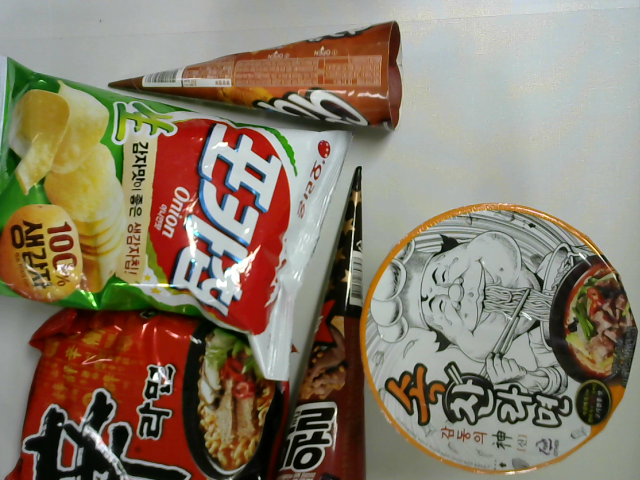GooGoo_Cone_CVS: (95, 17, 412, 140)
Hejangchan: (353, 192, 638, 480)
Pocachip_Onion: (1, 55, 352, 385)
Sinramen: (6, 307, 308, 480)
World_Cone_Choco: (266, 165, 379, 480)
